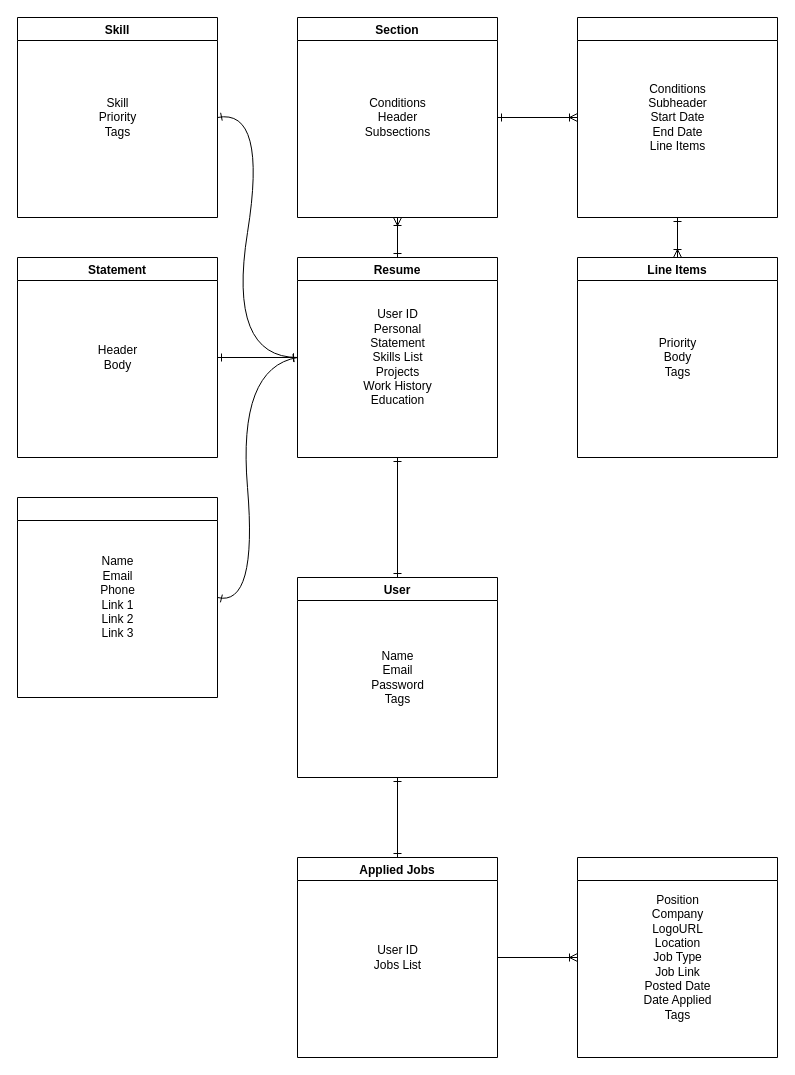
The diagram is 795 pixels wide and 1075 high, and some of its shapes have lost their labels. The shapes that lost their labels are listed below. From the top down, each one's box as (x1, y1, x2, y2) in pixels, then its label:
(576, 16, 778, 218): SubSection
(16, 496, 218, 698): Personal
(576, 856, 778, 1058): Jobs
